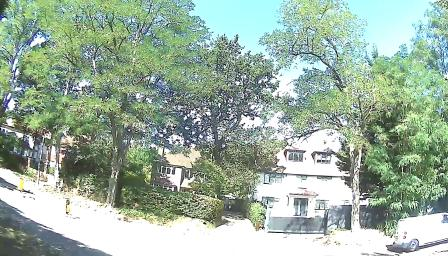Cars: (387, 214, 448, 256)
